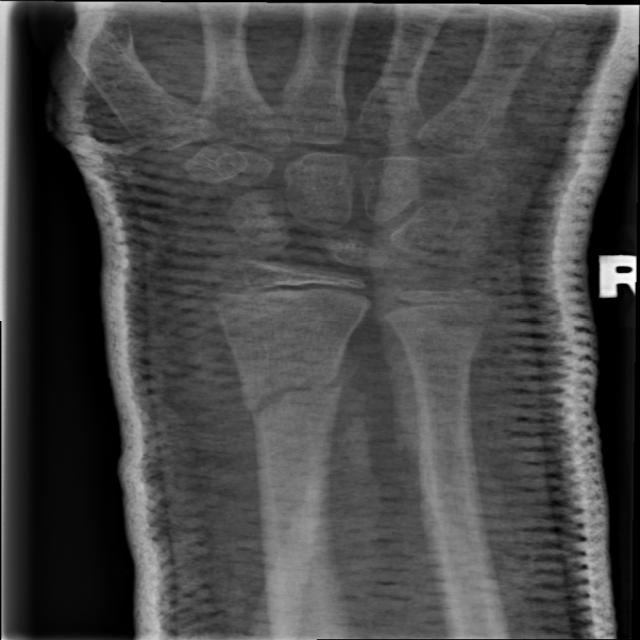radius fracture: (203, 338, 394, 486)
